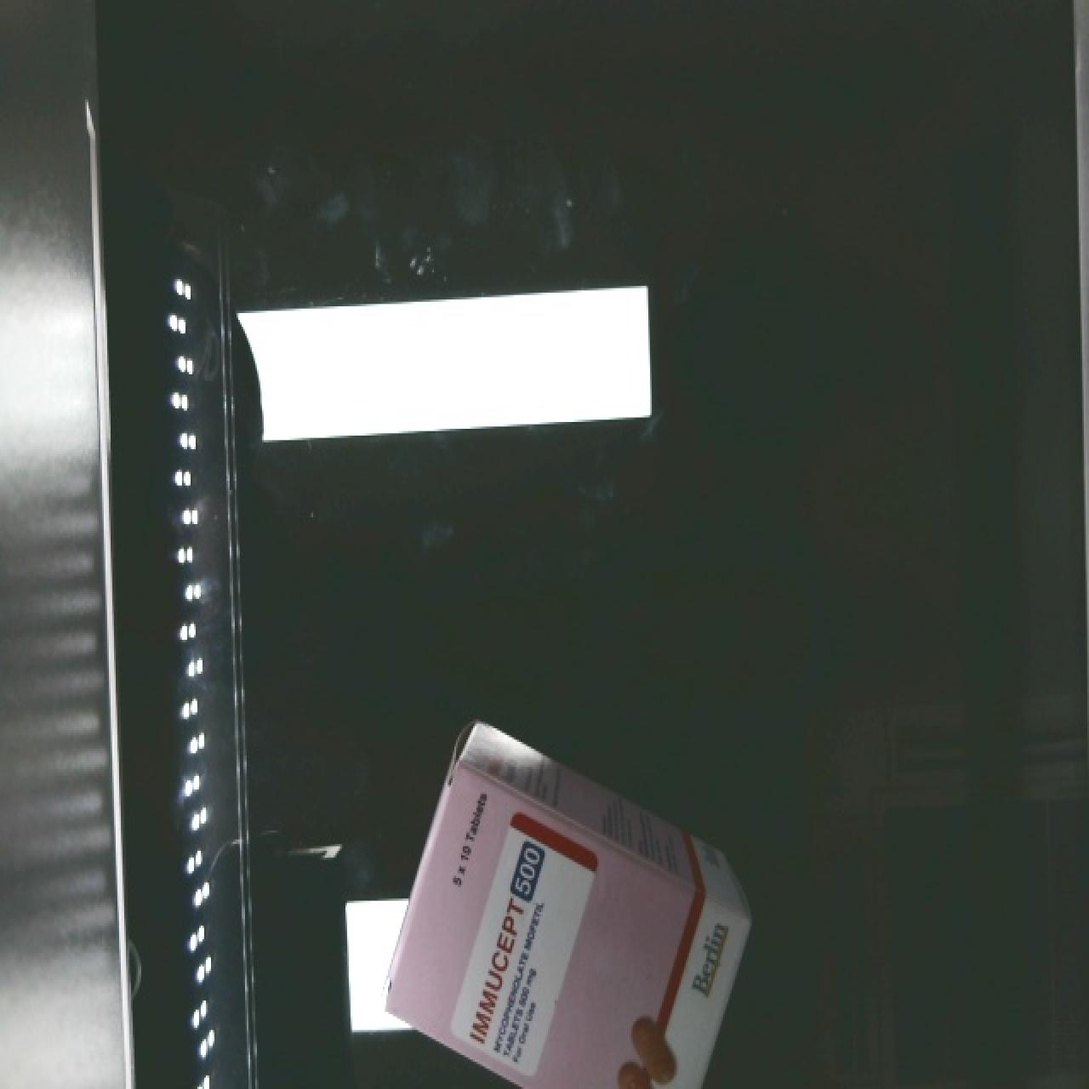medicine_label_obb: (447, 816, 558, 1065)
